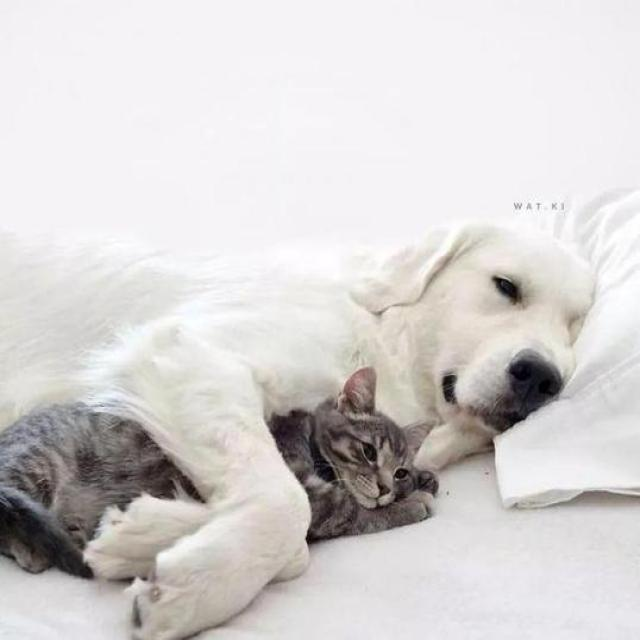cat: (266, 384, 446, 549)
dog: (363, 213, 617, 440)
